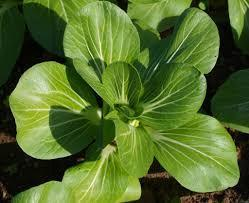Healthy-Pechay: (6, 1, 249, 201), (22, 0, 74, 59), (128, 1, 197, 36), (1, 1, 26, 94), (21, 128, 74, 160), (9, 179, 72, 202), (227, 0, 248, 43), (98, 0, 114, 48), (188, 49, 217, 74), (16, 104, 63, 116), (91, 82, 107, 112), (99, 142, 116, 160), (136, 48, 150, 69), (17, 3, 24, 15), (213, 55, 217, 58)
